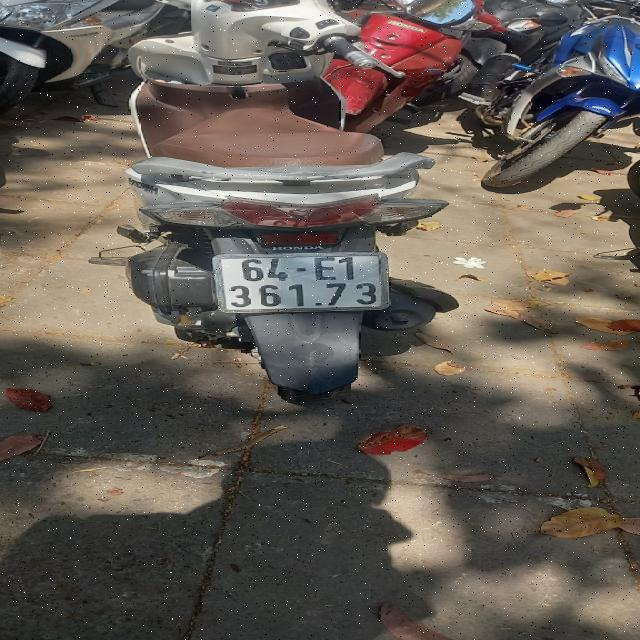1: (287, 283, 309, 306), (339, 256, 358, 281)
3: (354, 282, 379, 305), (227, 284, 250, 308)
4: (266, 258, 290, 281)
6: (240, 259, 266, 282), (258, 285, 282, 307)
7: (325, 282, 346, 306)
E: (314, 256, 339, 280)
